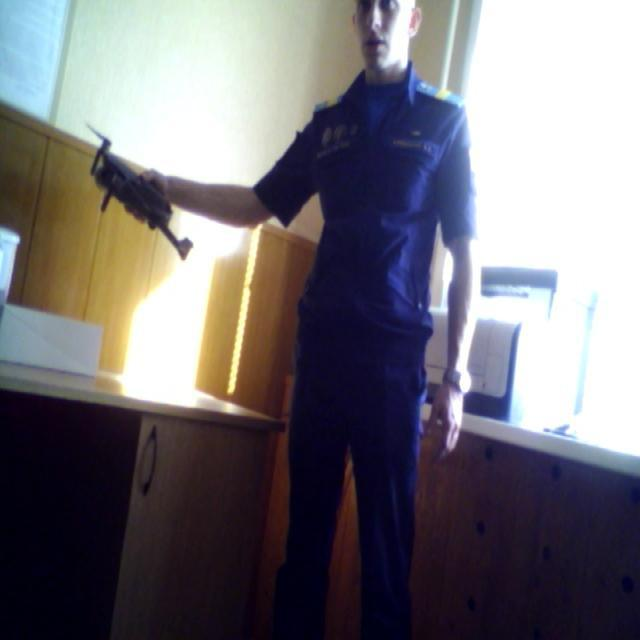drone: (77, 115, 220, 264)
